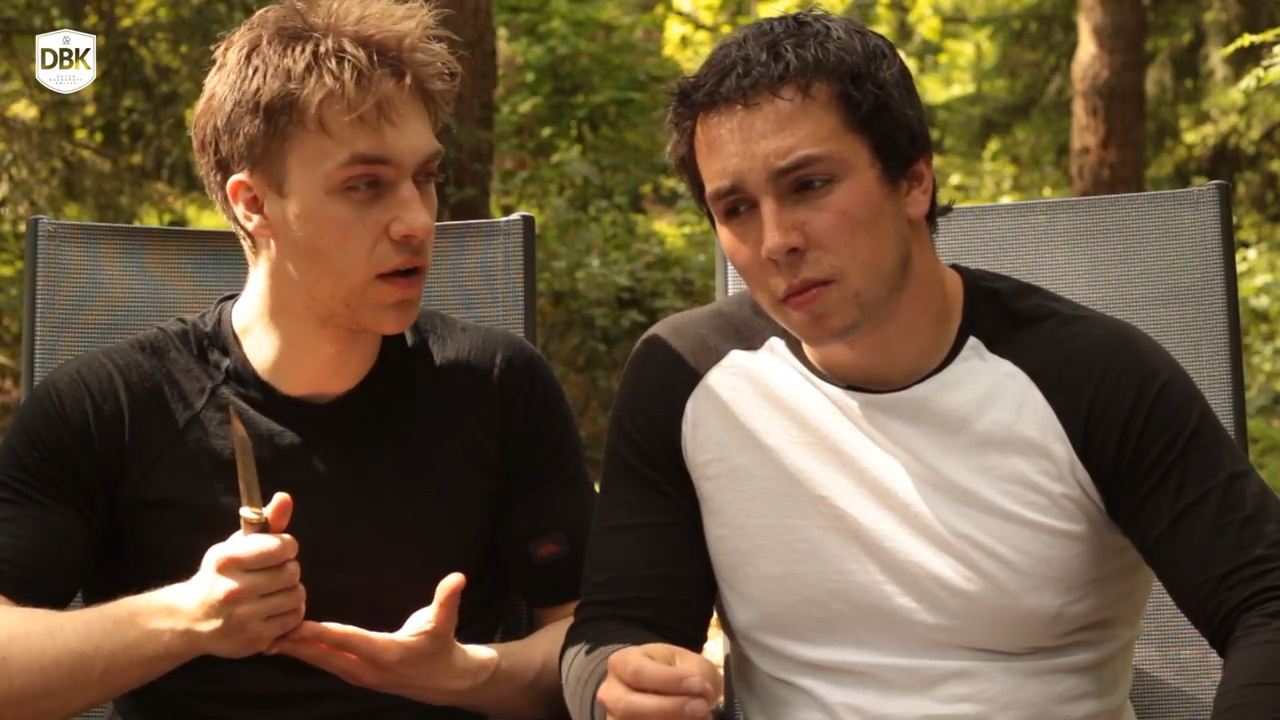knife: (194, 396, 317, 629)
